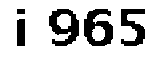5: (118, 6, 150, 52)
6: (83, 8, 116, 51)
9: (45, 6, 82, 49)
i: (9, 6, 35, 50)
